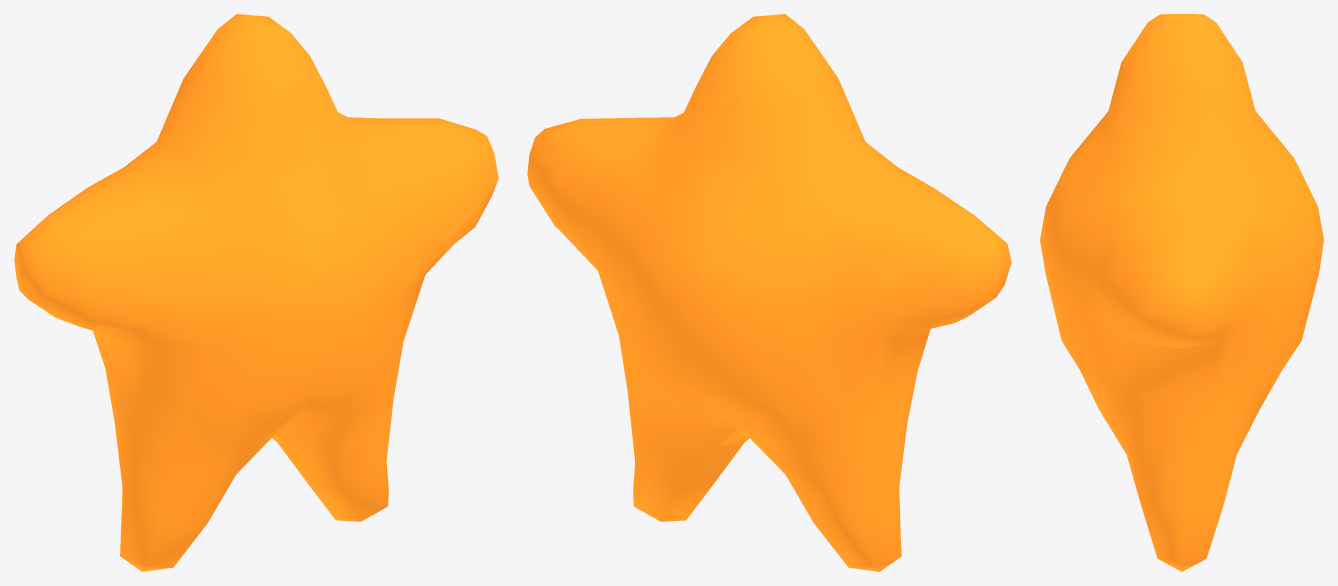
The model's file is Flubber-z.FBX.
3 views of the same model, side by side, from view 1: azimuth 30°, elevation 25°; view 2: azimuth 150°, elevation 25°; view 3: azimuth 270°, elevation 25° (orthographic). The views are drawn at different scales.
Visible parts, largest first — view 1: Flubber; view 2: Flubber; view 3: Flubber.
Part boxes in pixels (x1,y1,x2,y2): Flubber: (14, 14, 498, 571); Flubber: (527, 14, 1011, 571); Flubber: (1040, 14, 1323, 571).
Bounding box in the file's own units: 88.73 × 48.78 × 95.78.
